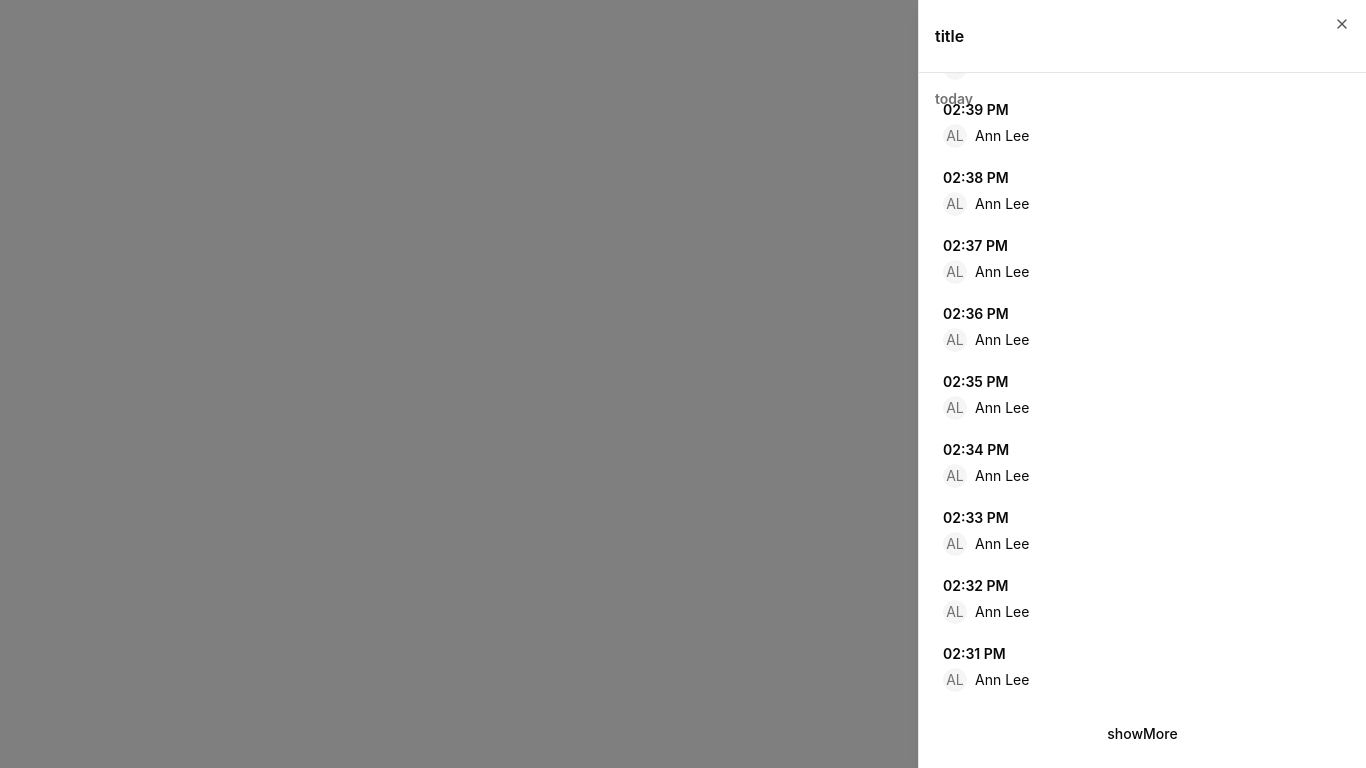
Scenario: history panel › reaches every version past 100 over four pages
(page scrolled)
Click the button "showMore" at (1142, 734), box x1=935 y1=716 x2=1350 y2=752
(page scrolled)
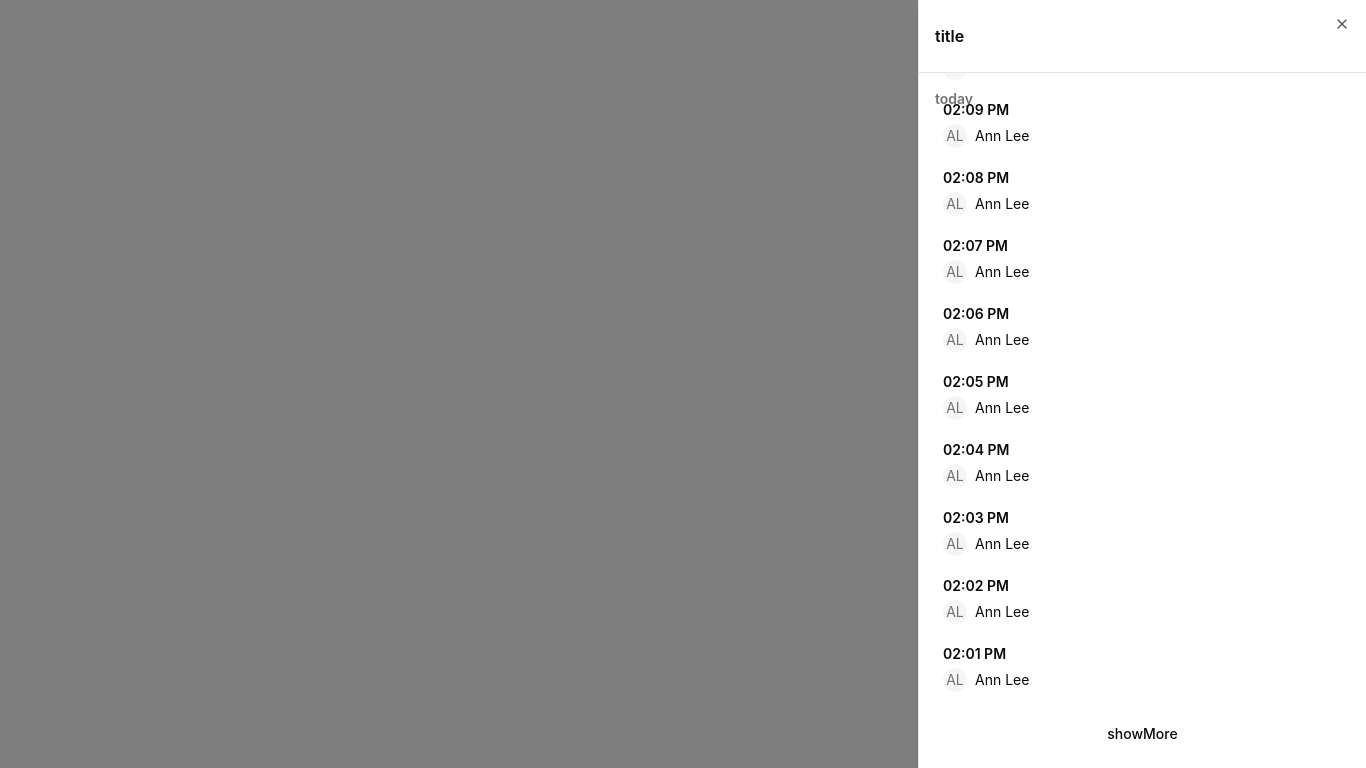
Click the button "showMore" at (1142, 734), box x1=935 y1=716 x2=1350 y2=752
(page scrolled)
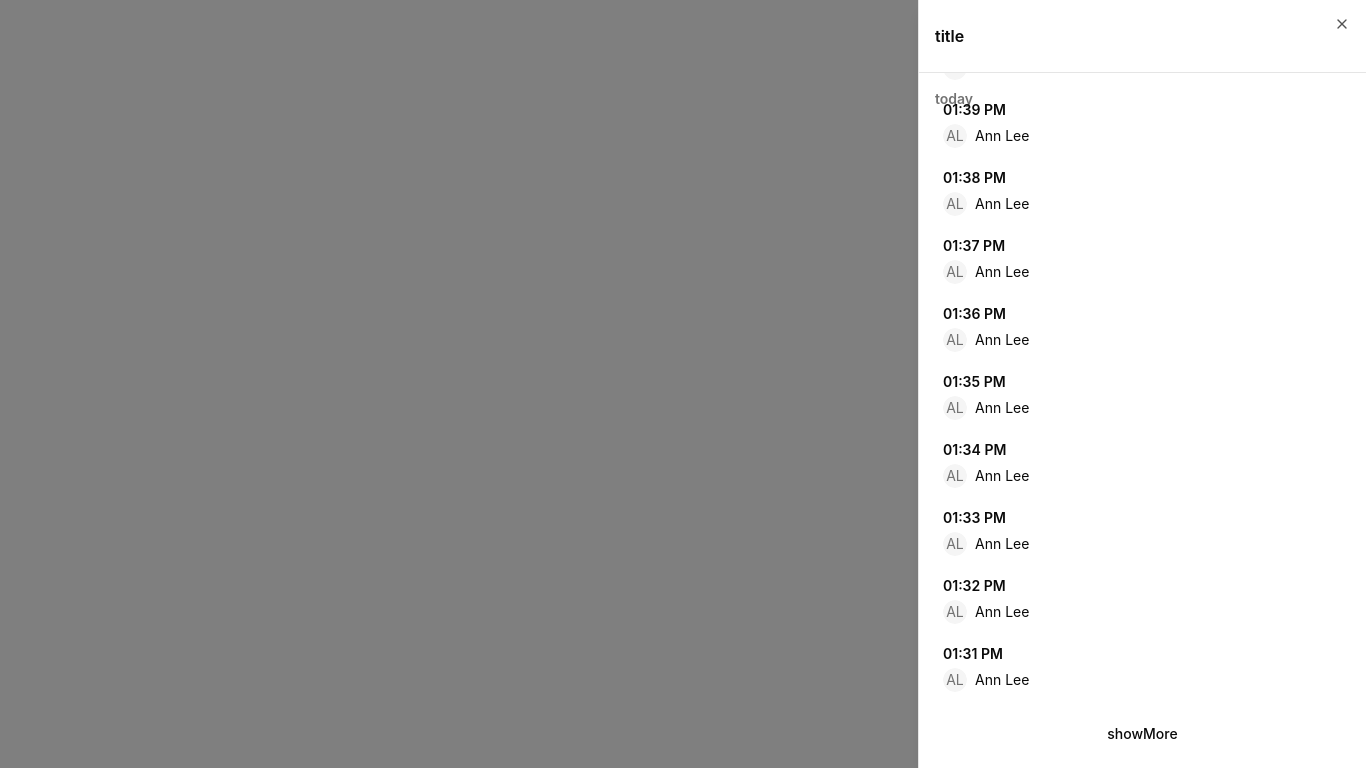
Click the button "showMore" at (1142, 734), box x1=935 y1=716 x2=1350 y2=752
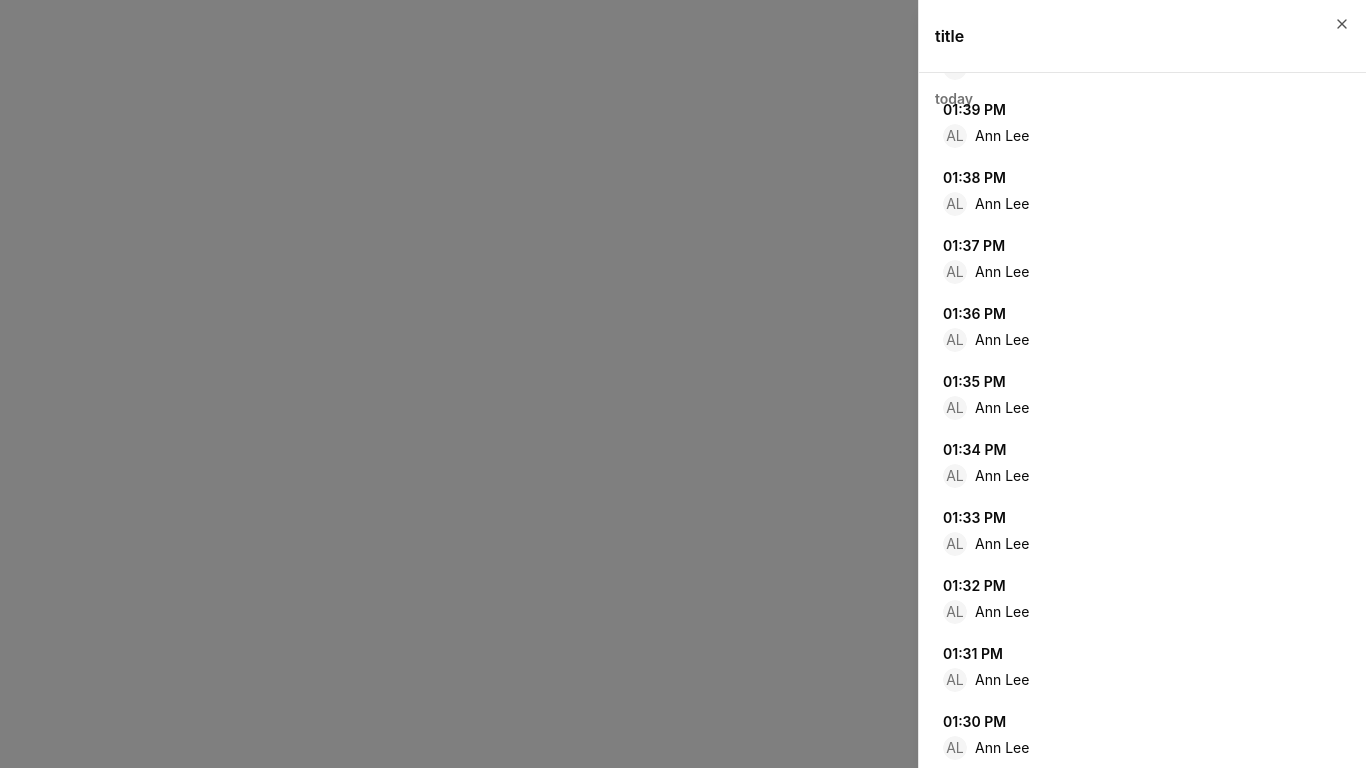
Check: the button "showMore" is gone
